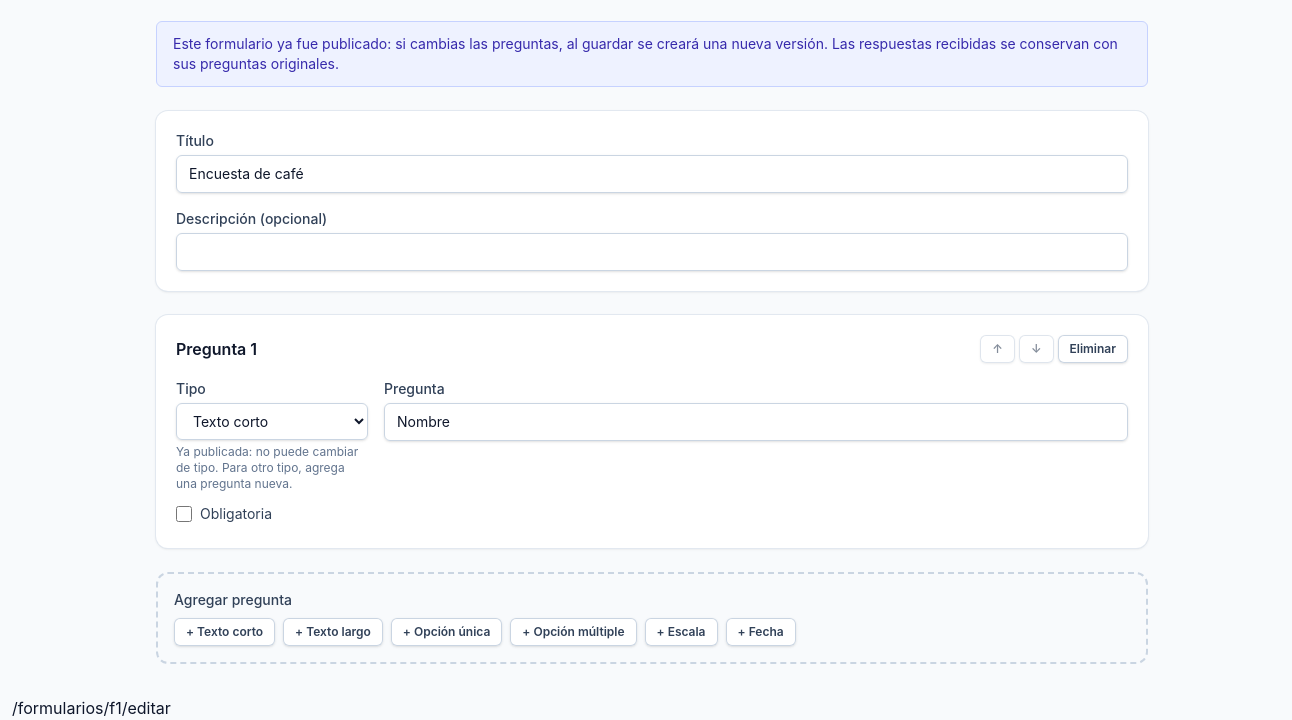
Editor: validar y guardar › en un formulario publicado, el tipo queda bloqueado en las preguntas ya guardadas, no en las nuevas
(page scrolled)
Check: the field labelled "Título" is shown, box left=176, top=155, right=1128, bottom=193
Click the button "+ Fecha": point(761, 632) left=726, top=618, right=796, bottom=646
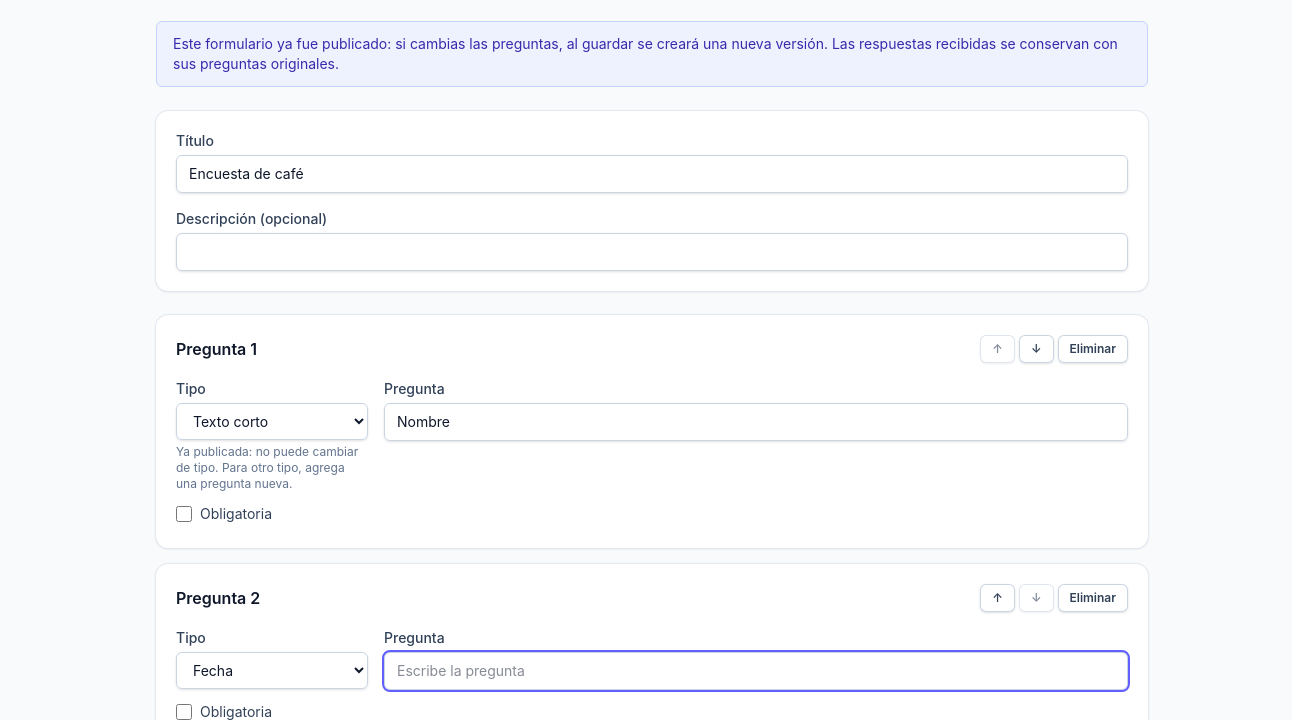
Check: the 1st dropdown labelled "Tipo" is disabled, box left=176, top=403, right=368, bottom=440
Check: the 2nd dropdown labelled "Tipo" is enabled, box left=176, top=652, right=368, bottom=689
